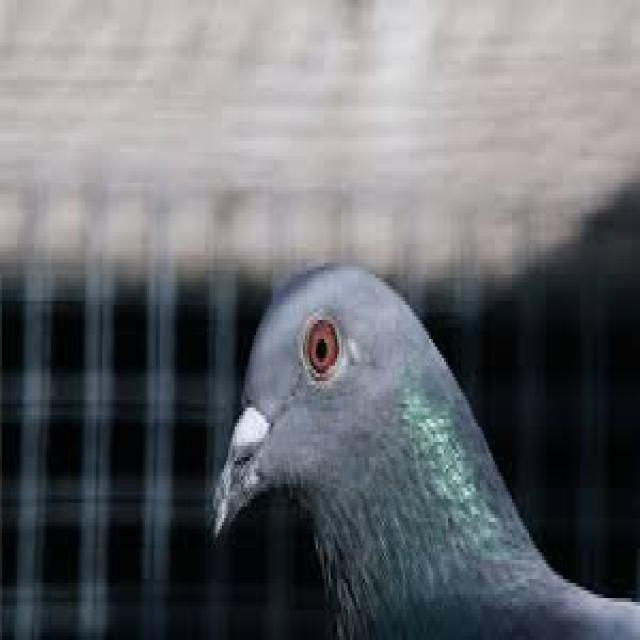Pigeon: (192, 252, 640, 640)
